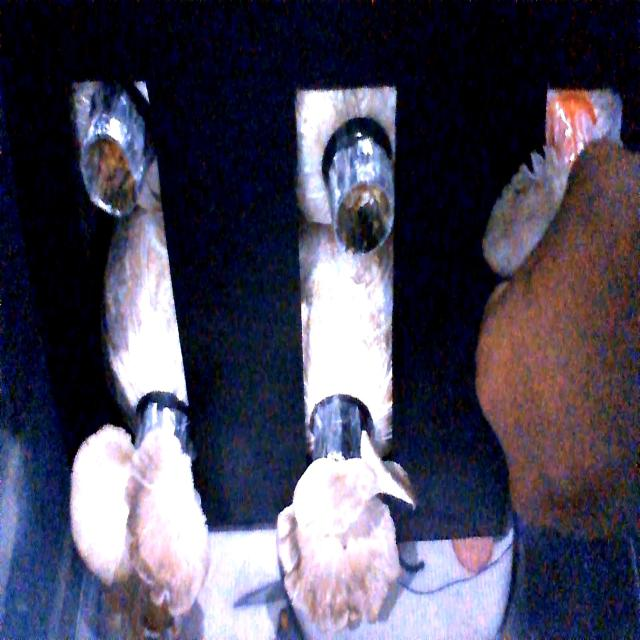big: (269, 440, 412, 640), (61, 425, 213, 610)
nfound: (80, 131, 140, 215), (332, 180, 395, 259)
